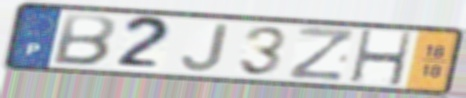2: (111, 15, 176, 75)
3: (238, 26, 289, 77)
B: (49, 12, 119, 68)
H: (348, 28, 415, 88)
J: (179, 22, 232, 73)
Z: (285, 24, 358, 82)
